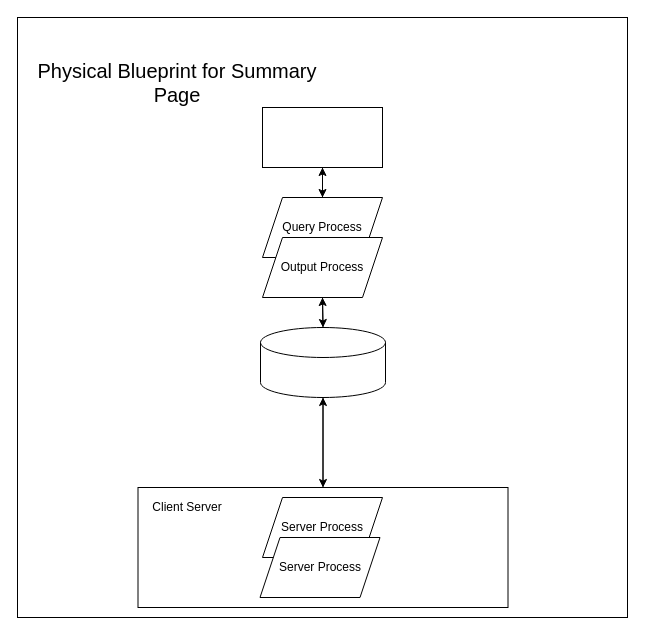
This 645x635 diagram has some shape labels left out. The shapes that lost their labels are listed below. From the top down, each one's centre as x and y in pixels, then its label:
At (x=322, y=137): "Summary Page View".
At (x=323, y=362): "SQLite Database".
